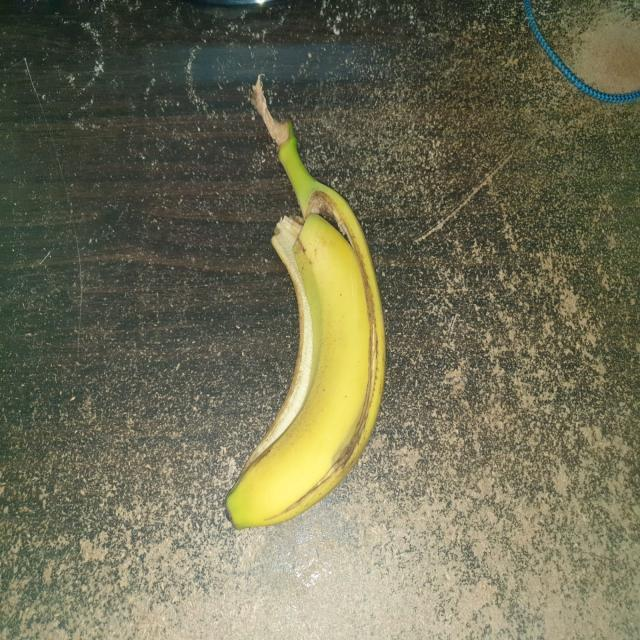banana-peel: (223, 74, 387, 529)
